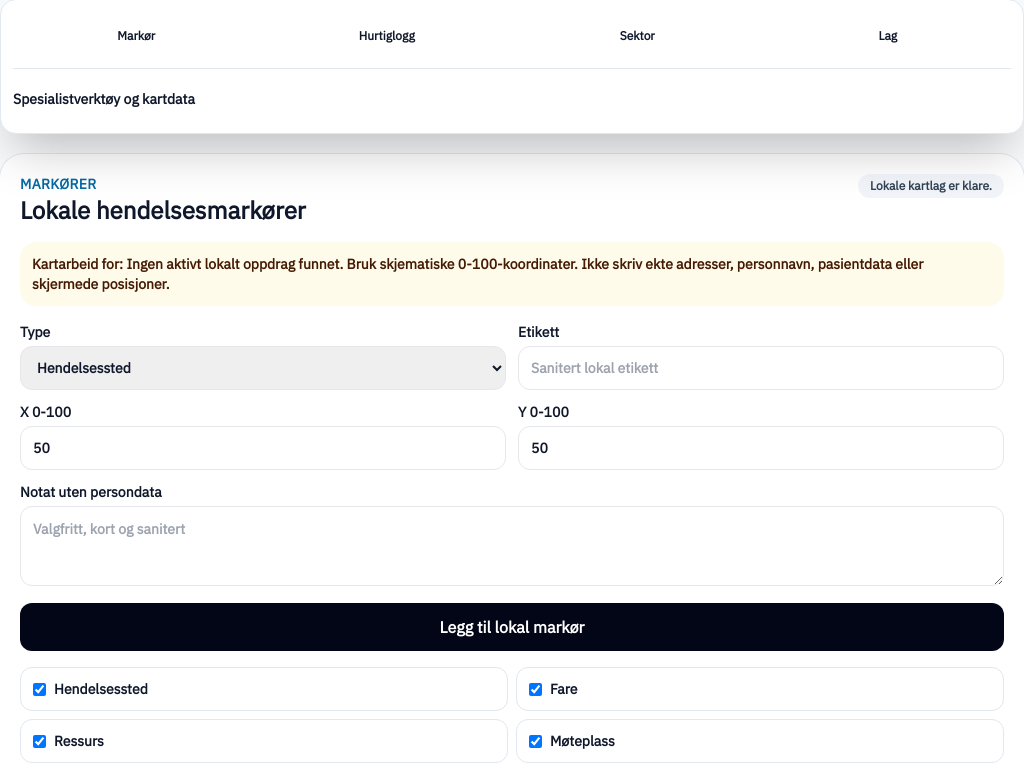
Scenario: blocks local marker saves when no active mission exists
(page scrolled)
Type "Markør uten oppdrag" into the field with placeholder "Sanitert lokal etikett".
click(761, 368); type("Markør uten oppdrag")  # box [518,346,1004,390]
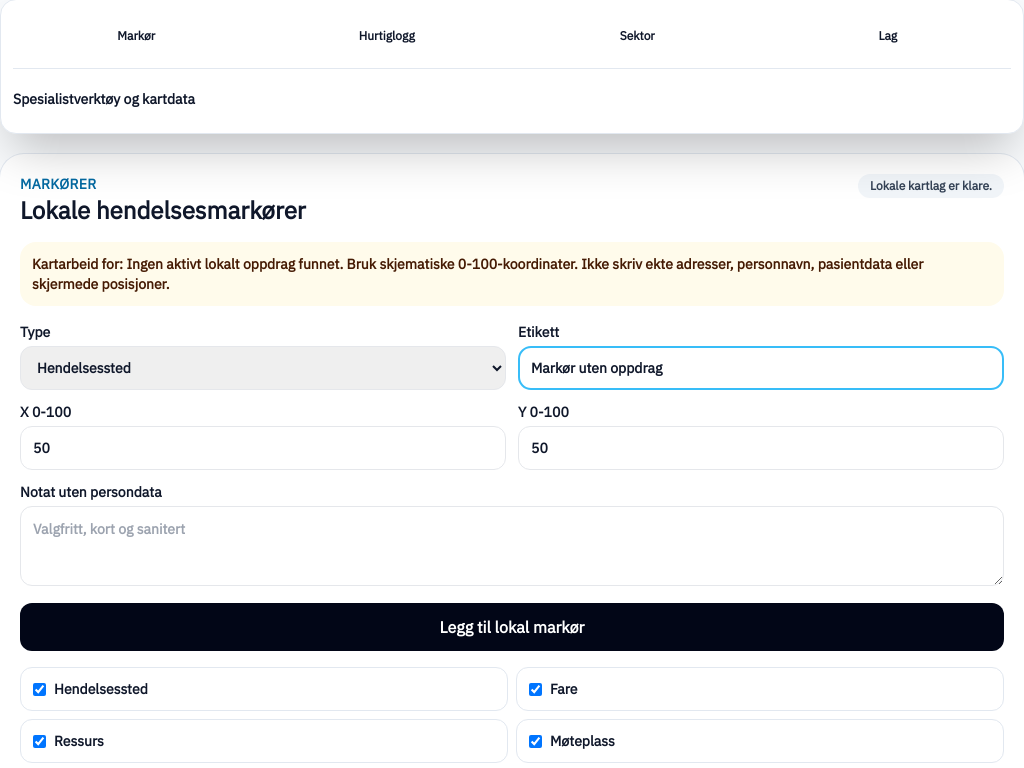
Click the button "Legg til lokal markør".
click(512, 627)  # box [20,603,1004,651]
(page scrolled)
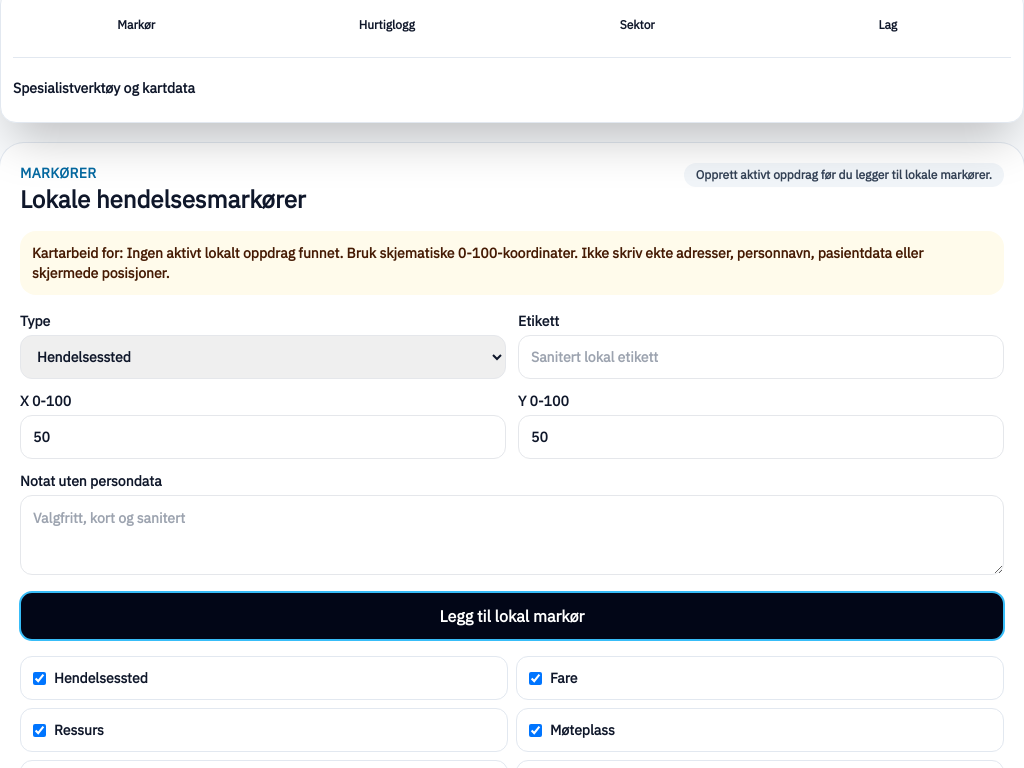
Now the text with test id "operations-map-status" shows "Opprett aktivt oppdrag før du legger til lokale markører", box [696,167,992,182]
